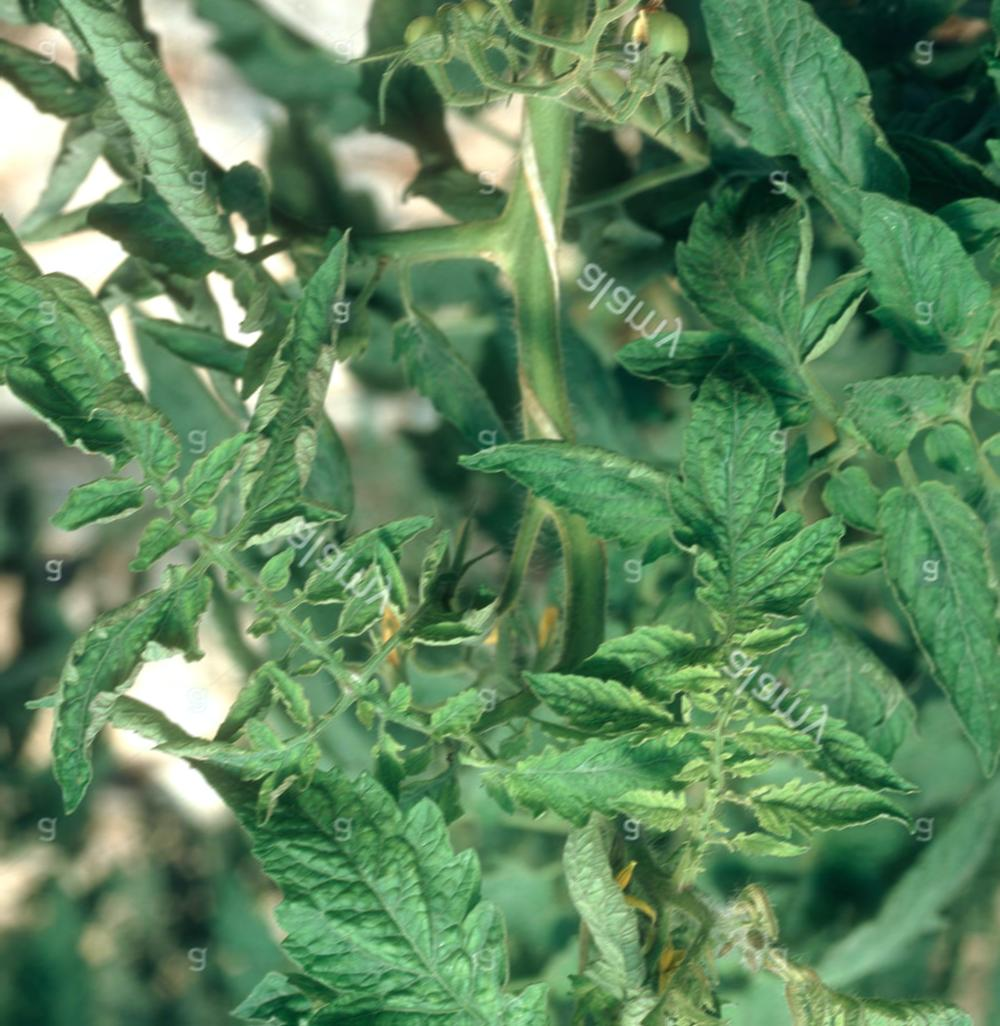Tomato leaf yellow virus: (225, 744, 594, 1026), (0, 109, 196, 511), (673, 346, 846, 639), (735, 766, 914, 858)
